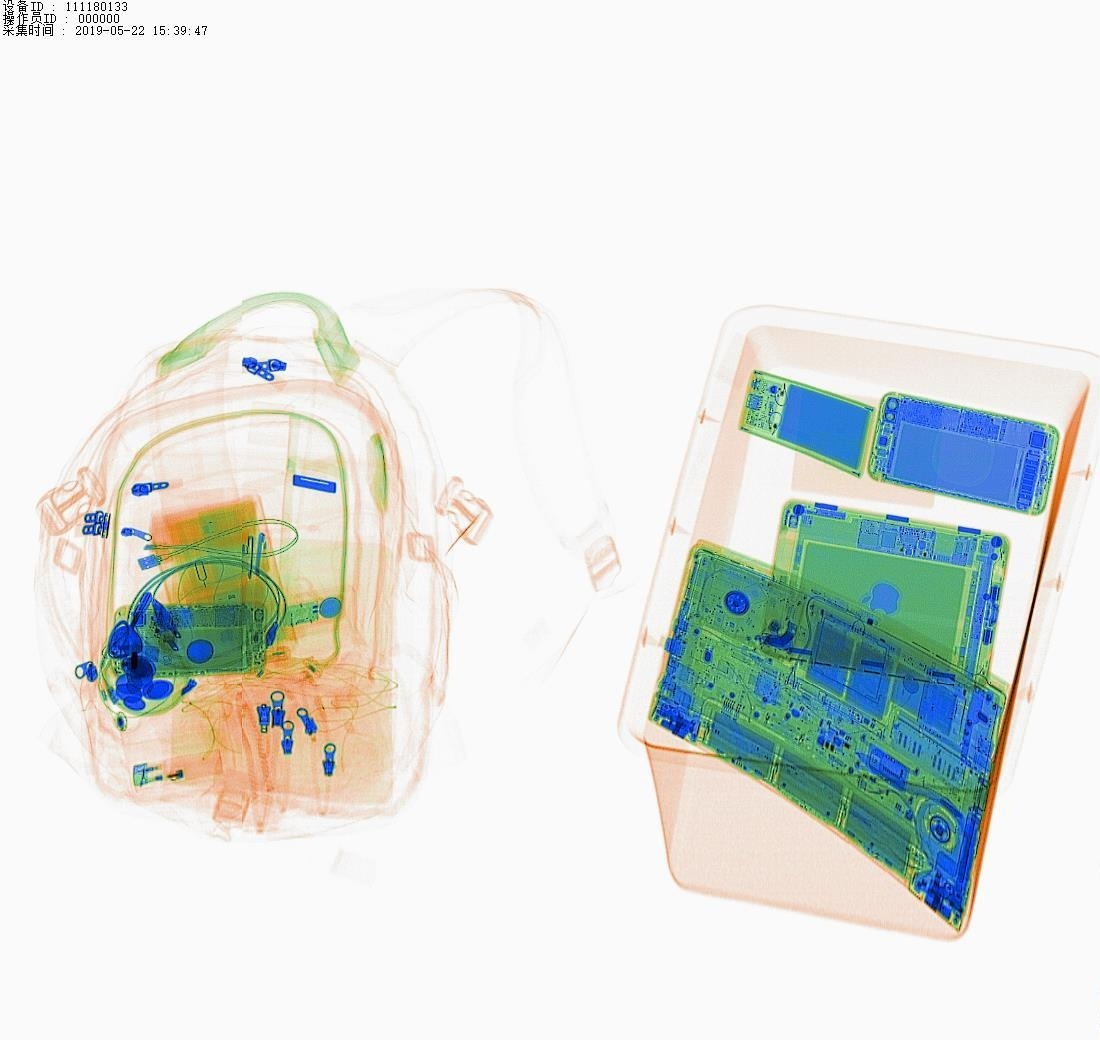NonmetallicFire: (122, 740, 218, 792)
